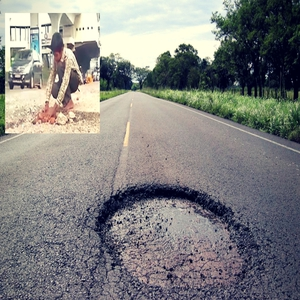pothole: (94, 183, 257, 293)
